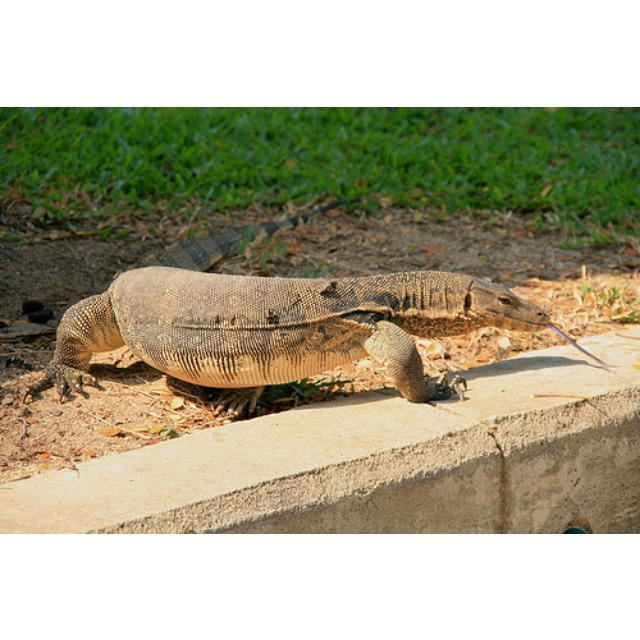KomodoDragon: (17, 260, 554, 408)
